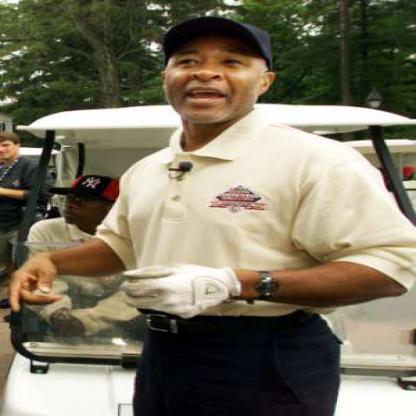face: (164, 19, 266, 126), (62, 179, 112, 228)
